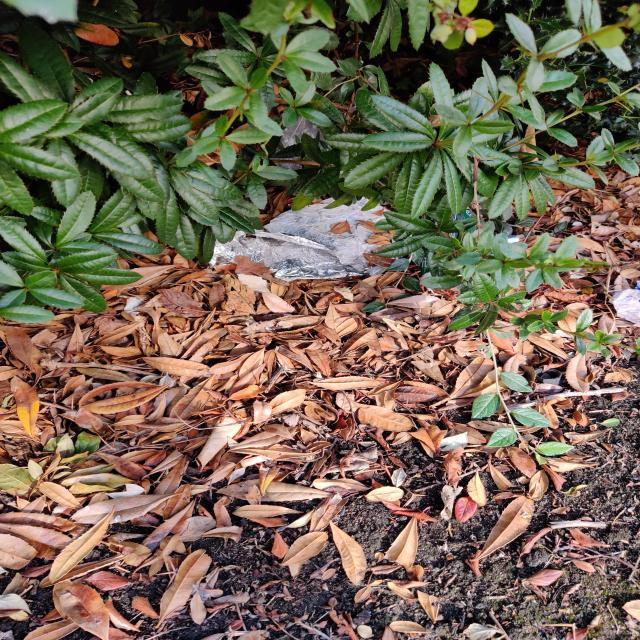litter: (210, 197, 399, 280)
